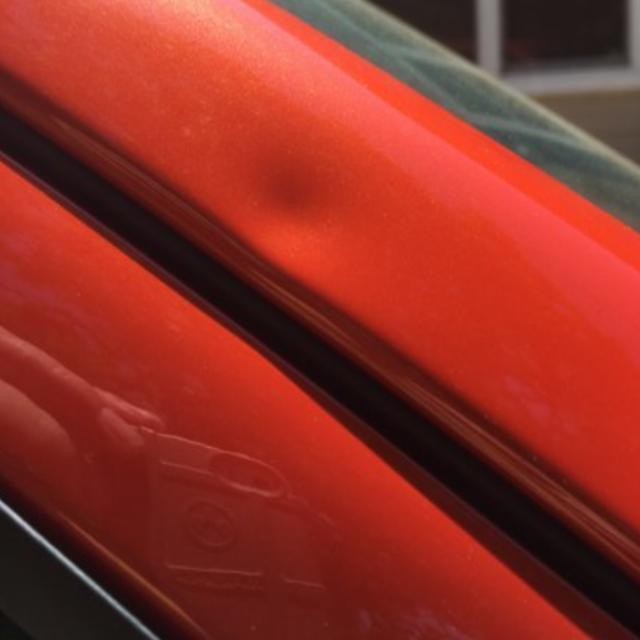dents: (243, 124, 389, 266)
